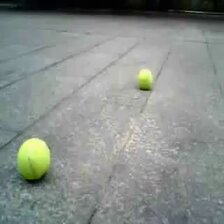tennis: (16, 137, 49, 178), (137, 69, 153, 86)
